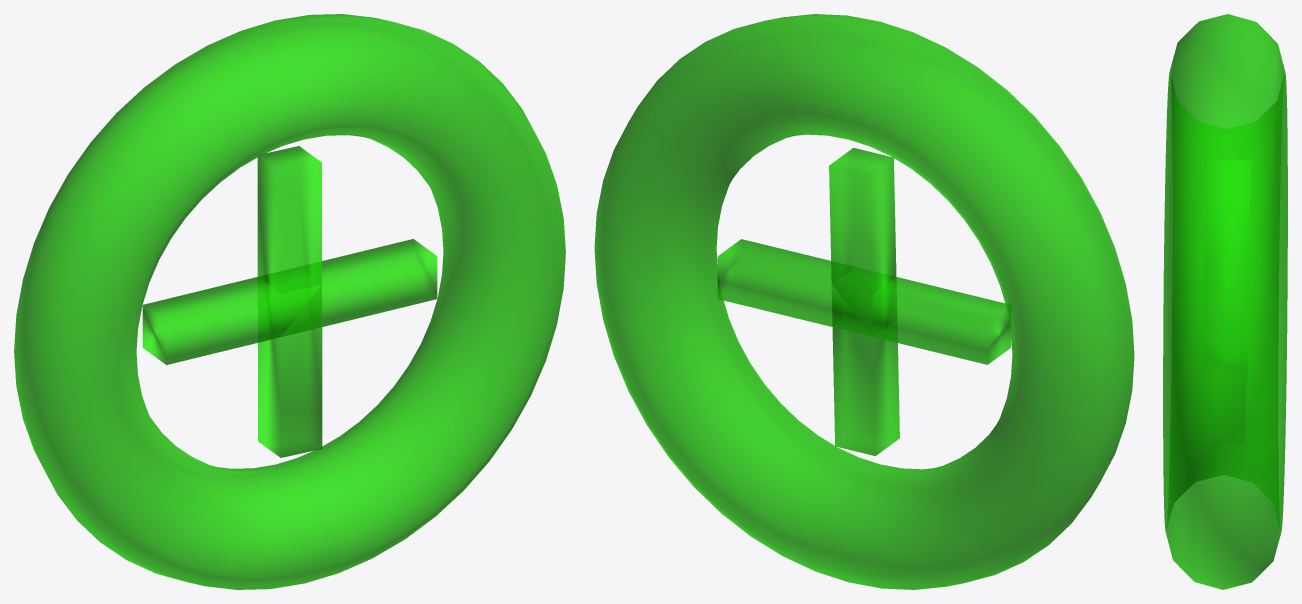
The model's file is medkit.fbx.
3 renders of one model, left to right at view 1: azimuth 30°, elevation 25°; view 2: azimuth 150°, elevation 25°; view 3: azimuth 270°, elevation 25°, orthographic. The views are drawn at different scales.
Visible parts, largest first — view 1: Cube.001; view 2: Cube.001; view 3: Cube.001.
Part boxes in pixels (x1=…): Cube.001: x1=14, y1=14, x2=565, y2=589; Cube.001: x1=594, y1=14, x2=1134, y2=589; Cube.001: x1=1163, y1=14, x2=1287, y2=589.
Bounding box in the file's own units: 250 × 250 × 54.14.
